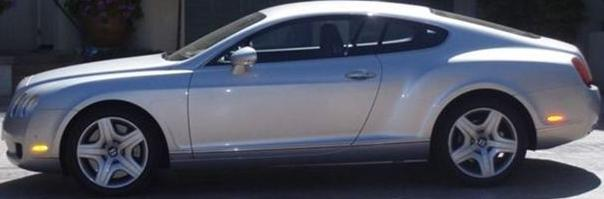backlight: (566, 50, 597, 89)
front_view: (0, 79, 60, 167)
headlight: (11, 92, 42, 118)
side_glass: (199, 11, 461, 72)
